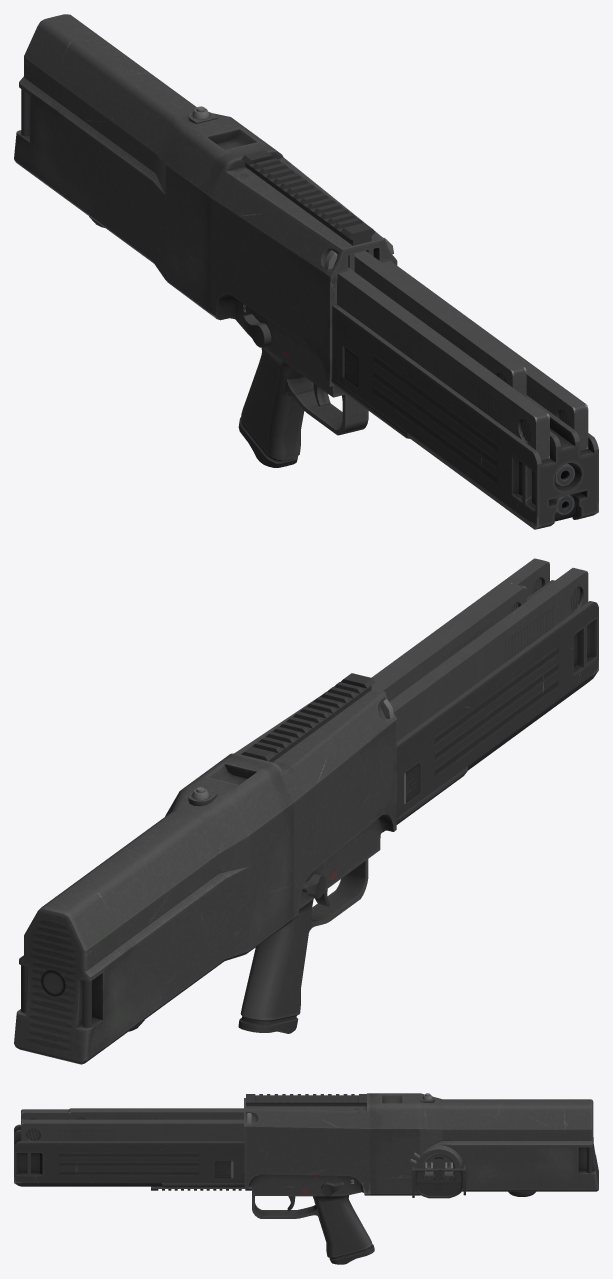
Rendered from raw.glb.
3 views of the same model, one above another, from view 1: azimuth 30°, elevation 25°; view 2: azimuth 150°, elevation 25°; view 3: azimuth 270°, elevation 25° (orthographic). The views are drawn at different scales.
Visible parts, largest first — view 1: g11_LOD0; view 2: g11_LOD0; view 3: g11_LOD0.
Boxes of the visible parts, x1=… form: g11_LOD0: x1=14, y1=14, x2=598, y2=529; g11_LOD0: x1=14, y1=558, x2=598, y2=1064; g11_LOD0: x1=14, y1=1093, x2=598, y2=1264.
Size of the model in its own units: 0.0671 by 0.2043 by 0.6513.
Materials: 1 (1 with a texture image).
